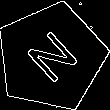N_SE: (19, 25, 84, 89)
